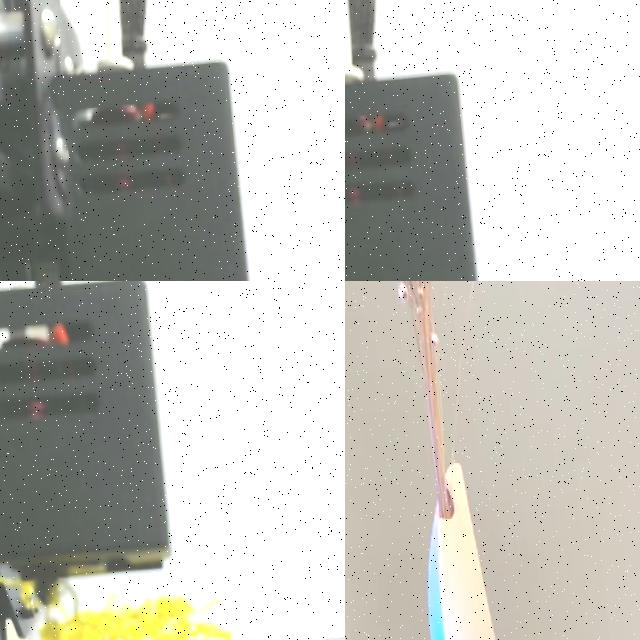spaghetti: (39, 593, 260, 640), (0, 574, 41, 615)
